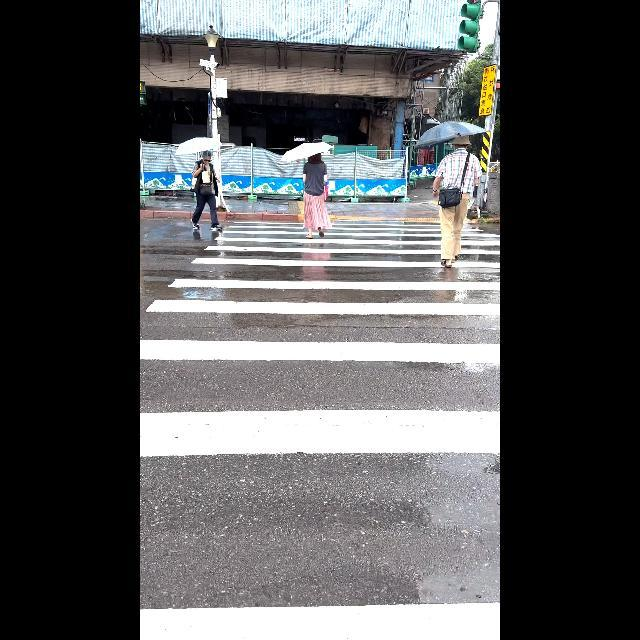sidewalk: (140, 218, 500, 458)
